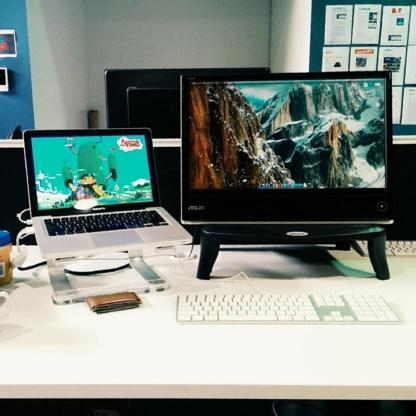board: (22, 128, 193, 259), (0, 231, 12, 286)
